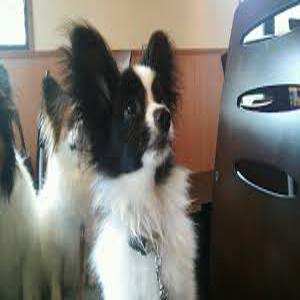yell: (29, 24, 196, 300)
